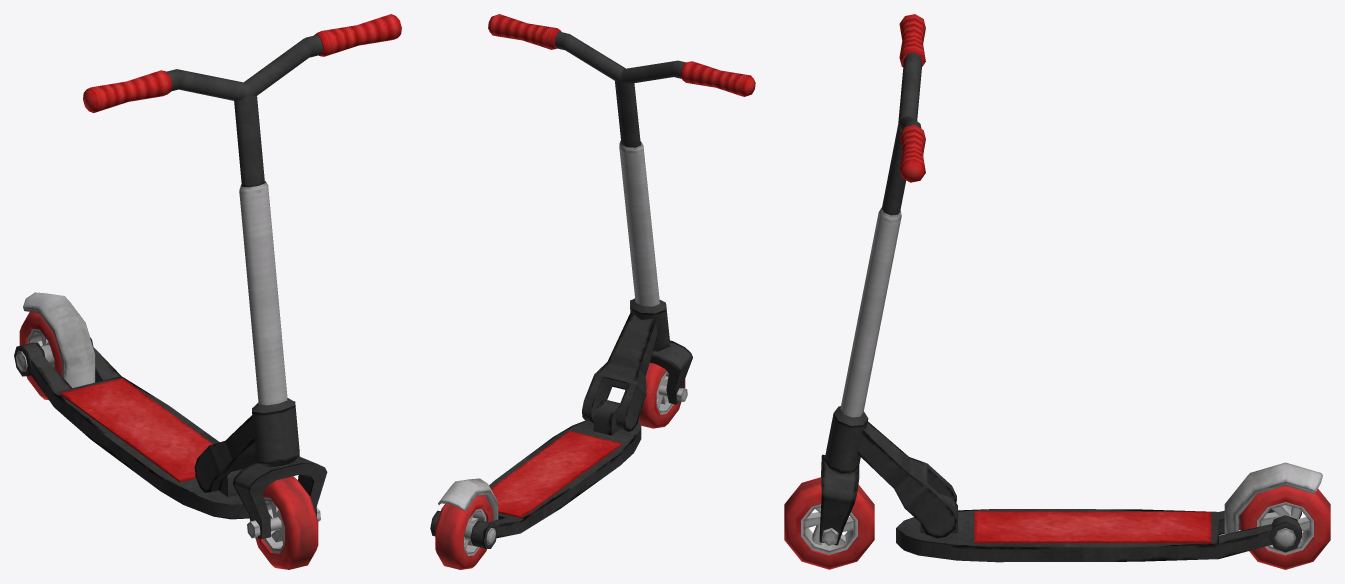
File: Scooter.fbx
3 renders of one model, left to right at view 1: azimuth 30°, elevation 25°; view 2: azimuth 150°, elevation 25°; view 3: azimuth 270°, elevation 25°, orthographic. The views are drawn at different scales.
Visible parts, largest first — view 1: Handles, ScootMcGoot_Jr, HandleJoints, FrontWheel, BackWheel; view 2: Handles, ScootMcGoot_Jr, HandleJoints, BackWheel, FrontWheel; view 3: ScootMcGoot_Jr, Handles, HandleJoints, FrontWheel, BackWheel.
Part boxes in pixels (<box>): Handles: <box>83,14,401,539</box>; ScootMcGoot_Jr: <box>14,292,249,519</box>; HandleJoints: <box>194,398,299,492</box>; FrontWheel: <box>255,476,318,569</box>; BackWheel: <box>19,312,61,399</box>; Handles: <box>488,14,755,404</box>; ScootMcGoot_Jr: <box>430,400,641,548</box>; HandleJoints: <box>582,298,669,431</box>; BackWheel: <box>435,494,492,569</box>; FrontWheel: <box>638,362,685,428</box>; ScootMcGoot_Jr: <box>896,462,1322,562</box>; Handles: <box>819,14,925,545</box>; HandleJoints: <box>824,406,956,538</box>; FrontWheel: <box>784,477,874,569</box>; BackWheel: <box>1240,486,1330,569</box>.
Bounding box in the file's own units: 79.42 × 118 × 121.
